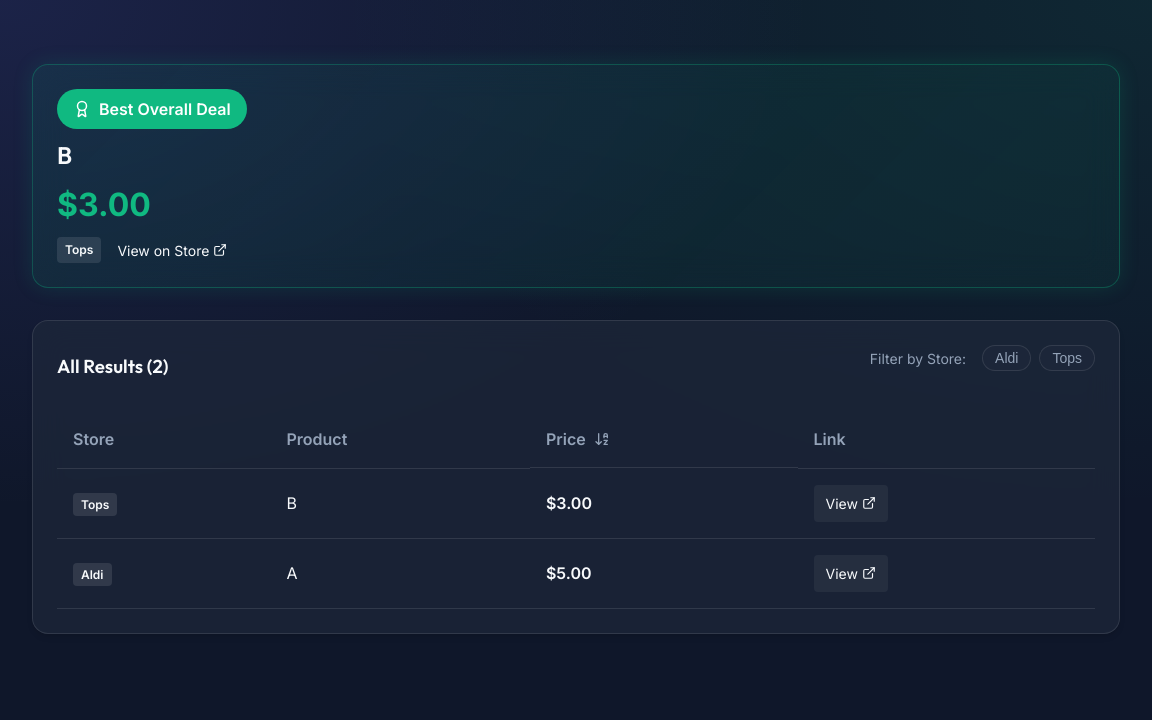
ProductResults Component › when_price_column_header_is_clicked_sorts_products
Check: the row "Tops B $3.00 View" is shown, box [57,468,1095,538]
Check: the row "Aldi A $5.00 View" is shown, box [57,538,1095,608]
// Click to sort DESC
Click the column heading "Price" at (664, 440), box [530,411,798,468]
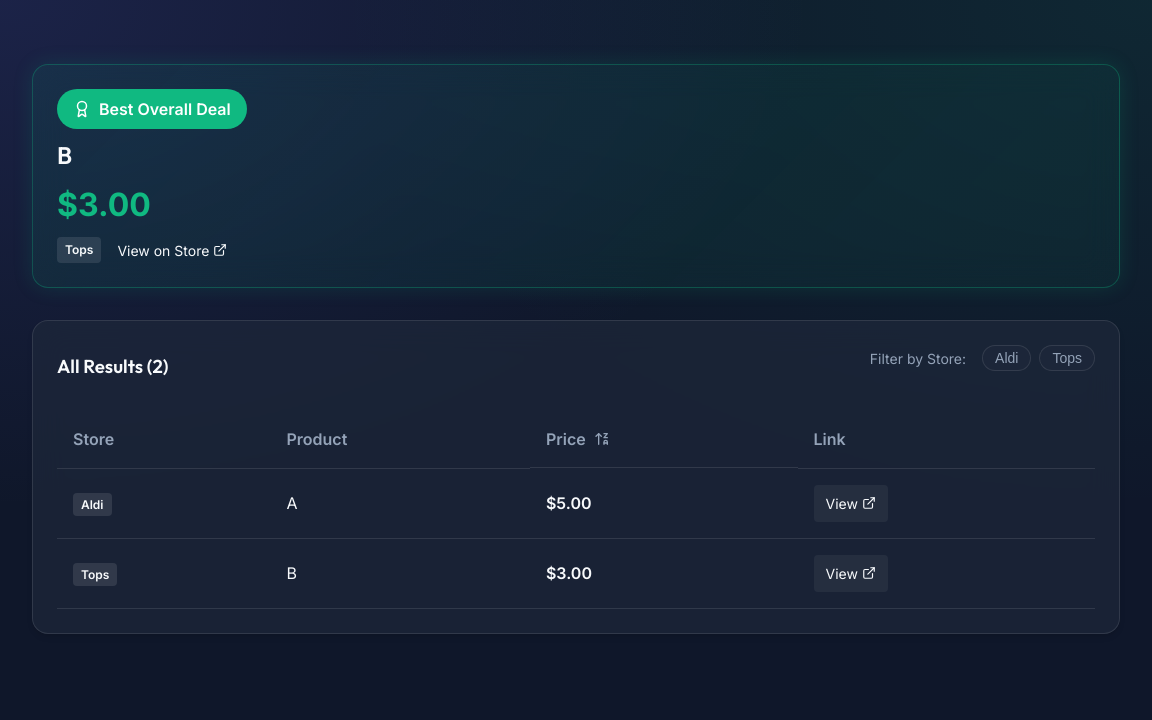
Check: the row "Aldi A $5.00 View" is shown, box [57,468,1095,538]
Check: the row "Tops B $3.00 View" is shown, box [57,538,1095,608]
